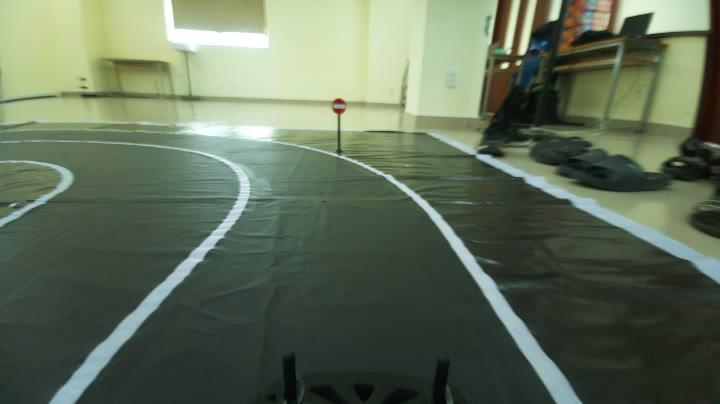no_entry: (326, 96, 350, 116)
